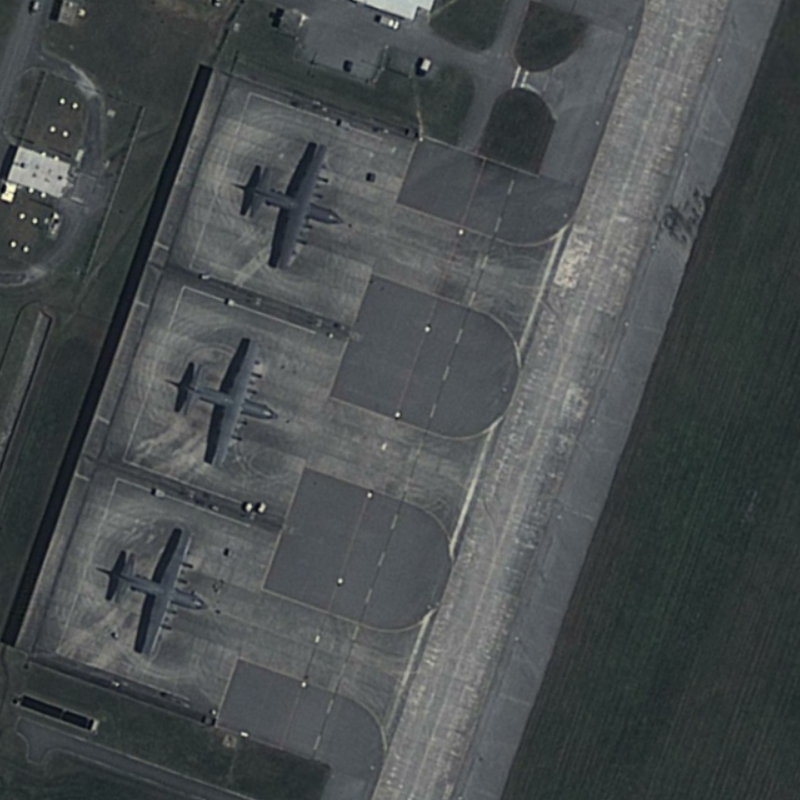A2: (95, 521, 218, 664), (233, 139, 349, 277), (173, 334, 281, 474)
